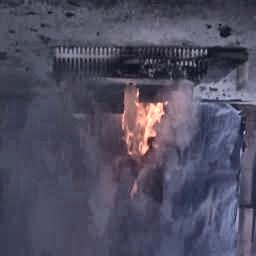fire: (122, 93, 167, 172)
